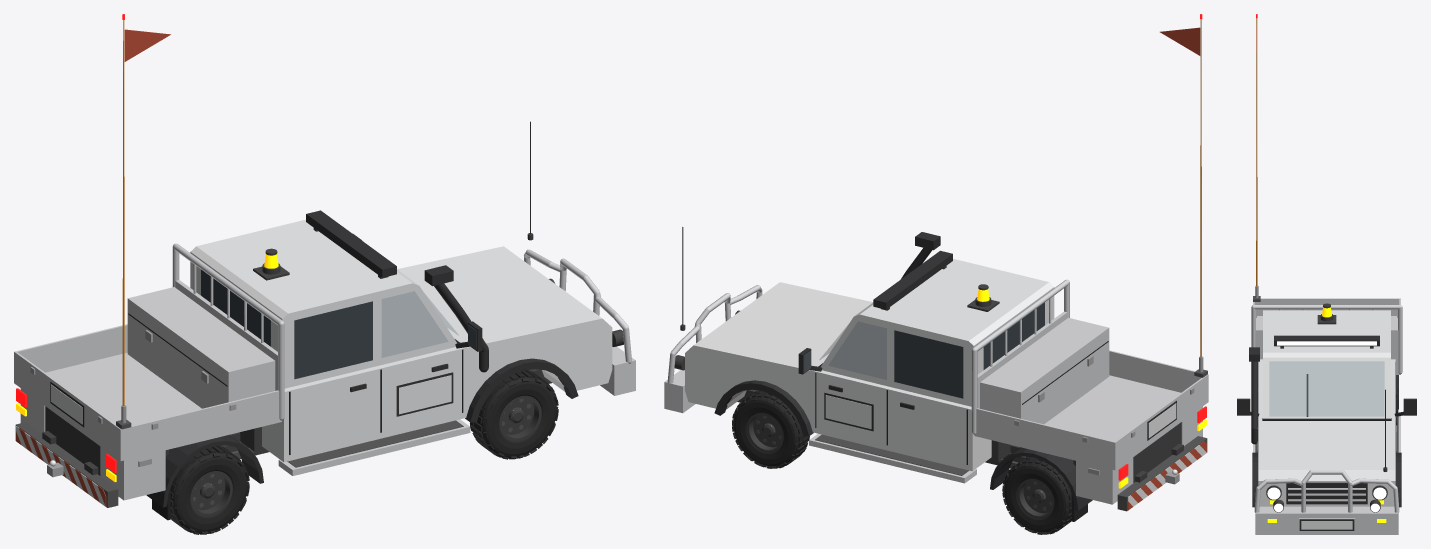
Rendered from mine_light_vehicle.glb.
3 views of the same model, side by side, from view 1: azimuth 30°, elevation 25°; view 2: azimuth 150°, elevation 25°; view 3: azimuth 270°, elevation 25° (orthographic). The views are drawn at different scales.
Parts seen in each view (by area): view 1: body, wheel_front_right_spin, wheel_rear_right_spin, buggy_whip_flag; view 2: body, wheel_front_left_spin, wheel_rear_left_spin, buggy_whip_flag; view 3: body, buggy_whip_flag.
Part boxes in pixels (left/top/right/bottom): body: left=14, top=121, right=635, bottom=520; wheel_front_right_spin: left=470, top=370, right=558, bottom=459; wheel_rear_right_spin: left=170, top=445, right=249, bottom=534; buggy_whip_flag: left=116, top=14, right=170, bottom=429; body: left=664, top=227, right=1208, bottom=521; wheel_front_left_spin: left=732, top=390, right=809, bottom=468; wheel_rear_left_spin: left=1002, top=457, right=1071, bottom=534; buggy_whip_flag: left=1160, top=14, right=1207, bottom=377; body: left=1237, top=298, right=1416, bottom=534; buggy_whip_flag: left=1253, top=14, right=1260, bottom=301.
Size of the model in its own units: 5.54 by 5.33 by 2.31.
Materials: 19 (19 with a texture image).
